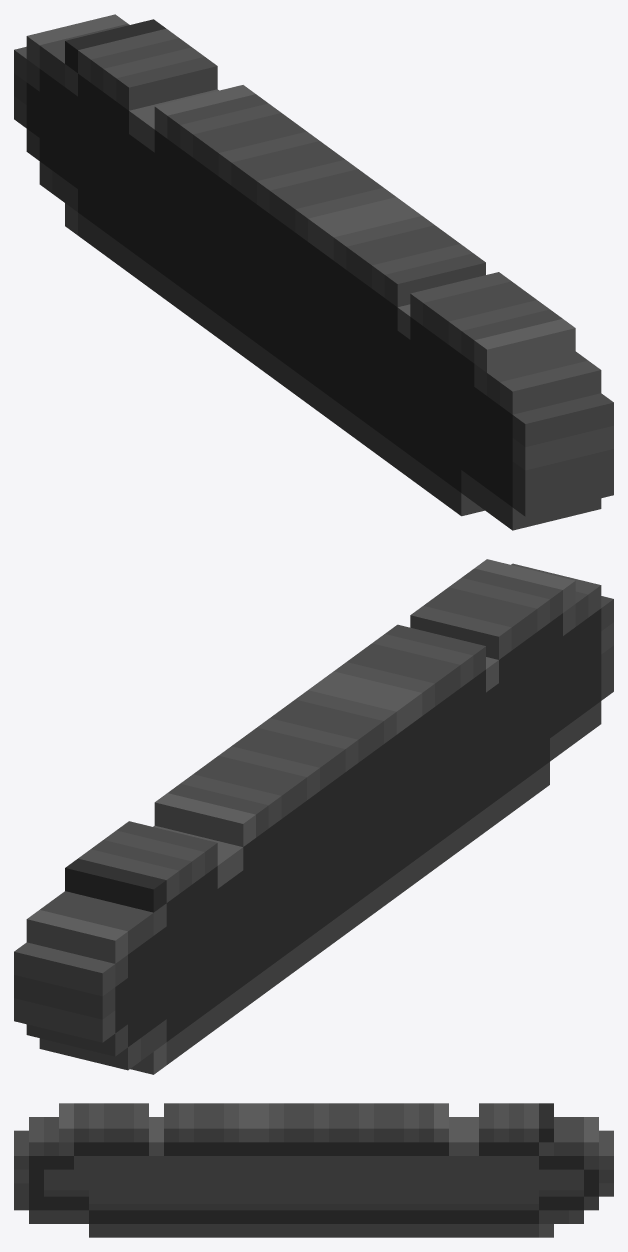
Rendered from medium-tracks.glb.
3 renders of one model, top to bottom at view 1: azimuth 30°, elevation 25°; view 2: azimuth 150°, elevation 25°; view 3: azimuth 270°, elevation 25°, orthographic. The views are drawn at different scales.
Visible parts, largest first — view 1: # material; view 2: # material; view 3: # material.
Boxes of the visible parts, x1,y1,x2,y2 form: # material: (14,14,613,530); # material: (14,559,613,1074); # material: (14,1103,613,1237).
Bounding box in the file's own units: 0.4 × 0.8 × 4.
1 material, 1 textured.
